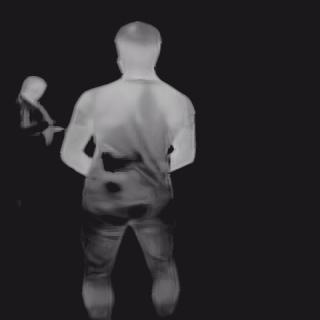Gun: (100, 151, 142, 193)
